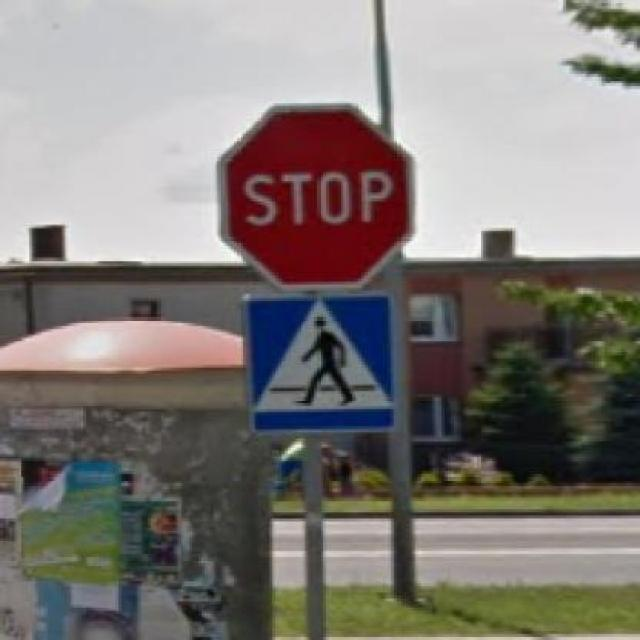Przejscie dla pieszych: (240, 294, 400, 432)
Stop: (212, 102, 416, 295)
